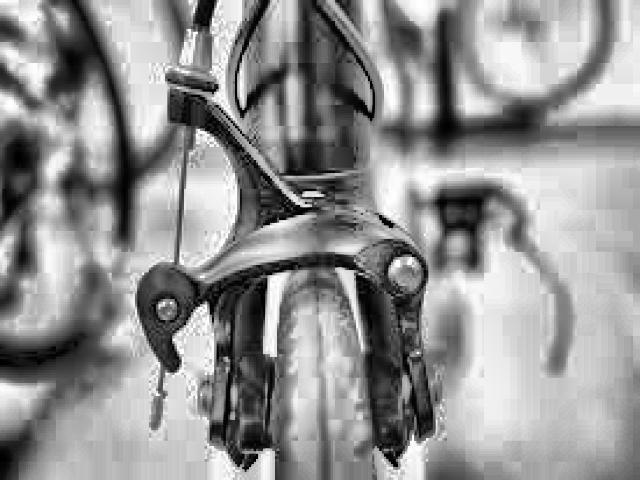rim_brake: (135, 32, 442, 468)
